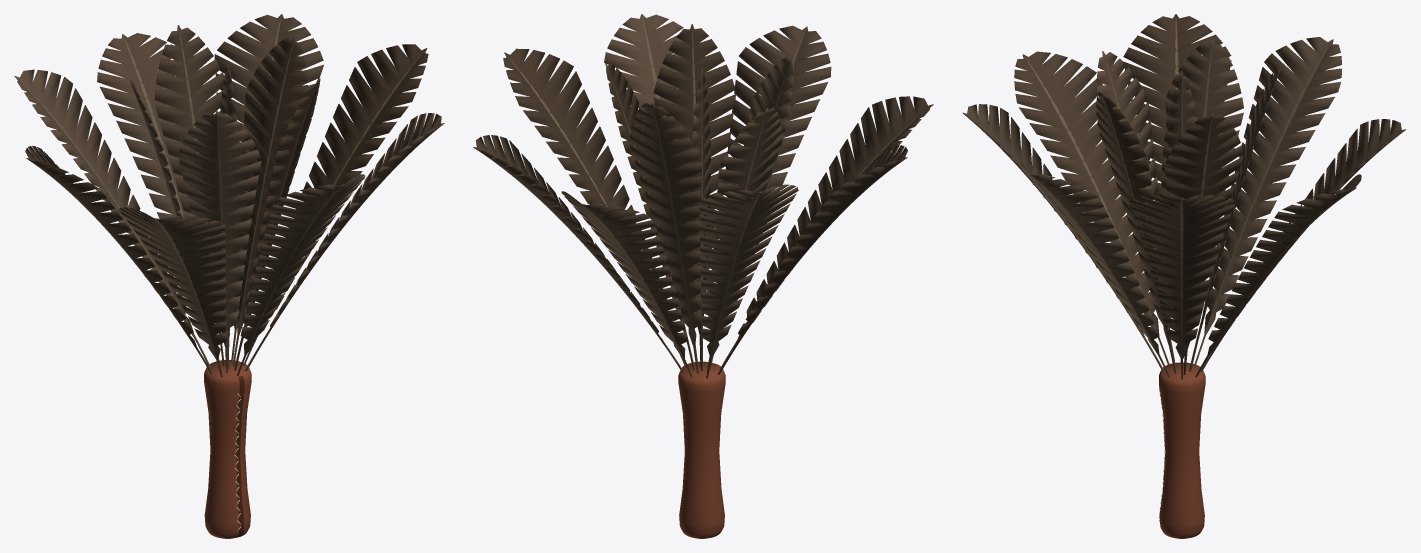
3 views of the same model, side by side, from view 1: azimuth 30°, elevation 25°; view 2: azimuth 150°, elevation 25°; view 3: azimuth 270°, elevation 25° (orthographic).
Visible parts, largest first — view 1: Feather_11_closed_vane_and_quill, Feather_00_closed_vane_and_quill, Feather_05_closed_vane_and_quill, Feather_02_closed_vane_and_quill, Feather_08_closed_vane_and_quill, Feather_06_closed_vane_and_quill, Leather handle complete capped ends, Feather_03_closed_vane_and_quill, Feather_09_closed_vane_and_quill, Feather_01_closed_vane_and_quill, Feather_04_closed_vane_and_quill, Feather_07_closed_vane_and_quill (+3 smaller); view 2: Feather_09_closed_vane_and_quill, Feather_00_closed_vane_and_quill, Feather_03_closed_vane_and_quill, Leather handle complete capped ends, Feather_06_closed_vane_and_quill, Feather_12_closed_vane_and_quill, Feather_02_closed_vane_and_quill, Feather_05_closed_vane_and_quill, Feather_07_closed_vane_and_quill, Feather_10_closed_vane_and_quill, Feather_01_closed_vane_and_quill, Feather_04_closed_vane_and_quill (+3 smaller); view 3: Feather_03_closed_vane_and_quill, Feather_05_closed_vane_and_quill, Feather_00_closed_vane_and_quill, Leather handle complete capped ends, Feather_04_closed_vane_and_quill, Feather_07_closed_vane_and_quill, Feather_08_closed_vane_and_quill, Feather_12_closed_vane_and_quill, Feather_01_closed_vane_and_quill, Feather_10_closed_vane_and_quill, Feather_11_closed_vane_and_quill, Feather_06_closed_vane_and_quill (+3 smaller).
Part boxes in pixels (<box>): Feather_11_closed_vane_and_quill: <box>178,111,261,372</box>; Feather_00_closed_vane_and_quill: <box>243,44,428,365</box>; Feather_05_closed_vane_and_quill: <box>119,207,226,377</box>; Feather_02_closed_vane_and_quill: <box>97,33,219,361</box>; Feather_08_closed_vane_and_quill: <box>232,36,308,366</box>; Feather_06_closed_vane_and_quill: <box>236,174,365,375</box>; Leather handle complete capped ends: <box>204,360,251,538</box>; Feather_03_closed_vane_and_quill: <box>14,69,210,367</box>; Feather_09_closed_vane_and_quill: <box>154,25,225,366</box>; Feather_01_closed_vane_and_quill: <box>214,14,323,361</box>; Feather_04_closed_vane_and_quill: <box>25,146,212,373</box>; Feather_07_closed_vane_and_quill: <box>245,113,444,371</box>; Feather_09_closed_vane_and_quill: <box>629,102,701,373</box>; Feather_00_closed_vane_and_quill: <box>503,48,686,366</box>; Feather_03_closed_vane_and_quill: <box>699,184,798,378</box>; Leather handle complete capped ends: <box>678,361,725,538</box>; Feather_06_closed_vane_and_quill: <box>711,25,831,363</box>; Feather_12_closed_vane_and_quill: <box>653,24,735,367</box>; Feather_02_closed_vane_and_quill: <box>561,191,692,377</box>; Feather_05_closed_vane_and_quill: <box>720,96,933,368</box>; Feather_07_closed_vane_and_quill: <box>604,14,705,363</box>; Feather_10_closed_vane_and_quill: <box>706,107,781,372</box>; Feather_01_closed_vane_and_quill: <box>473,135,684,373</box>; Feather_04_closed_vane_and_quill: <box>718,145,907,374</box>; Feather_03_closed_vane_and_quill: <box>1194,37,1341,366</box>; Feather_05_closed_vane_and_quill: <box>1014,51,1169,365</box>; Feather_00_closed_vane_and_quill: <box>1128,195,1235,379</box>; Leather handle complete capped ends: <box>1159,362,1205,538</box>; Feather_04_closed_vane_and_quill: <box>1123,14,1231,363</box>; Feather_07_closed_vane_and_quill: <box>1020,162,1169,377</box>; Feather_08_closed_vane_and_quill: <box>1164,113,1243,374</box>; Feather_12_closed_vane_and_quill: <box>1096,92,1176,373</box>; Feather_01_closed_vane_and_quill: <box>1195,174,1361,377</box>; Feather_10_closed_vane_and_quill: <box>1165,39,1243,367</box>; Feather_11_closed_vane_and_quill: <box>1096,51,1176,369</box>; Feather_06_closed_vane_and_quill: <box>962,104,1164,371</box>.
Size of the model in its own units: 0.3328 by 0.3711 by 0.3211.
